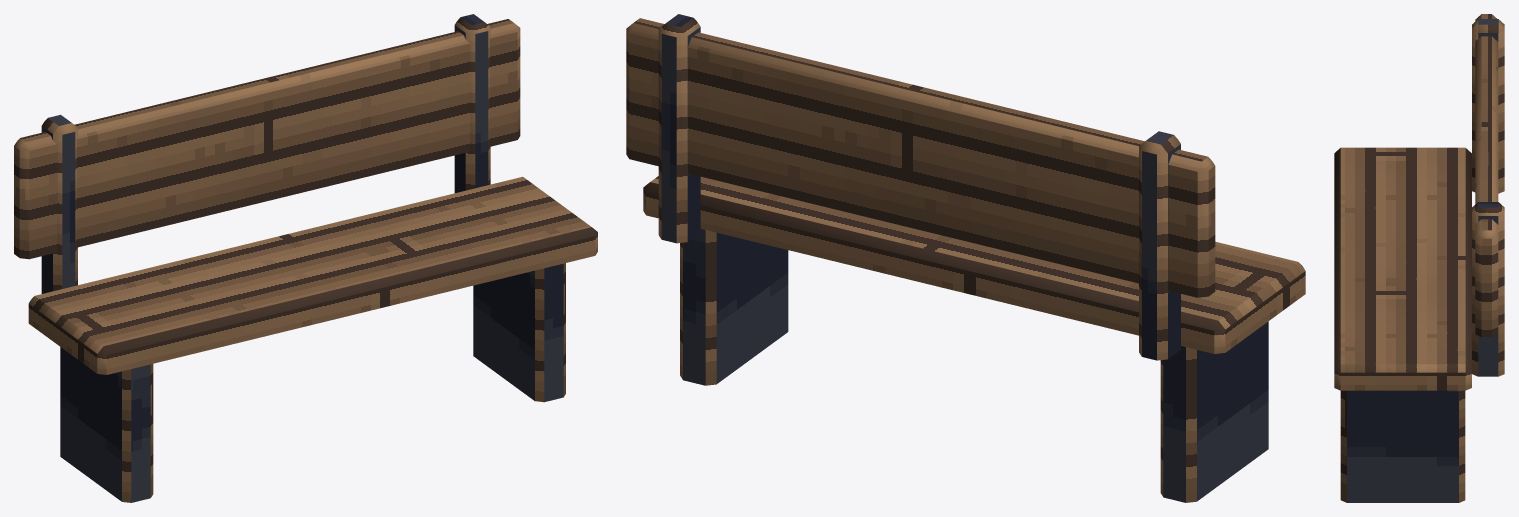
Rendered from bench_0.glb.
The picture shows the model from 3 angles, left to right: view 1: azimuth 30°, elevation 25°; view 2: azimuth 150°, elevation 25°; view 3: azimuth 270°, elevation 25°; orthographic projection. The views are drawn at different scales.
Parts seen in each view (by area): view 1: bench_1; view 2: bench_1; view 3: bench_1.
Boxes of the visible parts, left/top/right/bottom form: bench_1: left=14, top=14, right=597, bottom=502; bench_1: left=626, top=14, right=1305, bottom=502; bench_1: left=1334, top=14, right=1504, bottom=502.
Bounding box in the file's own units: 1.6 × 0.98 × 0.52.
Materials: 2 (2 with a texture image).
